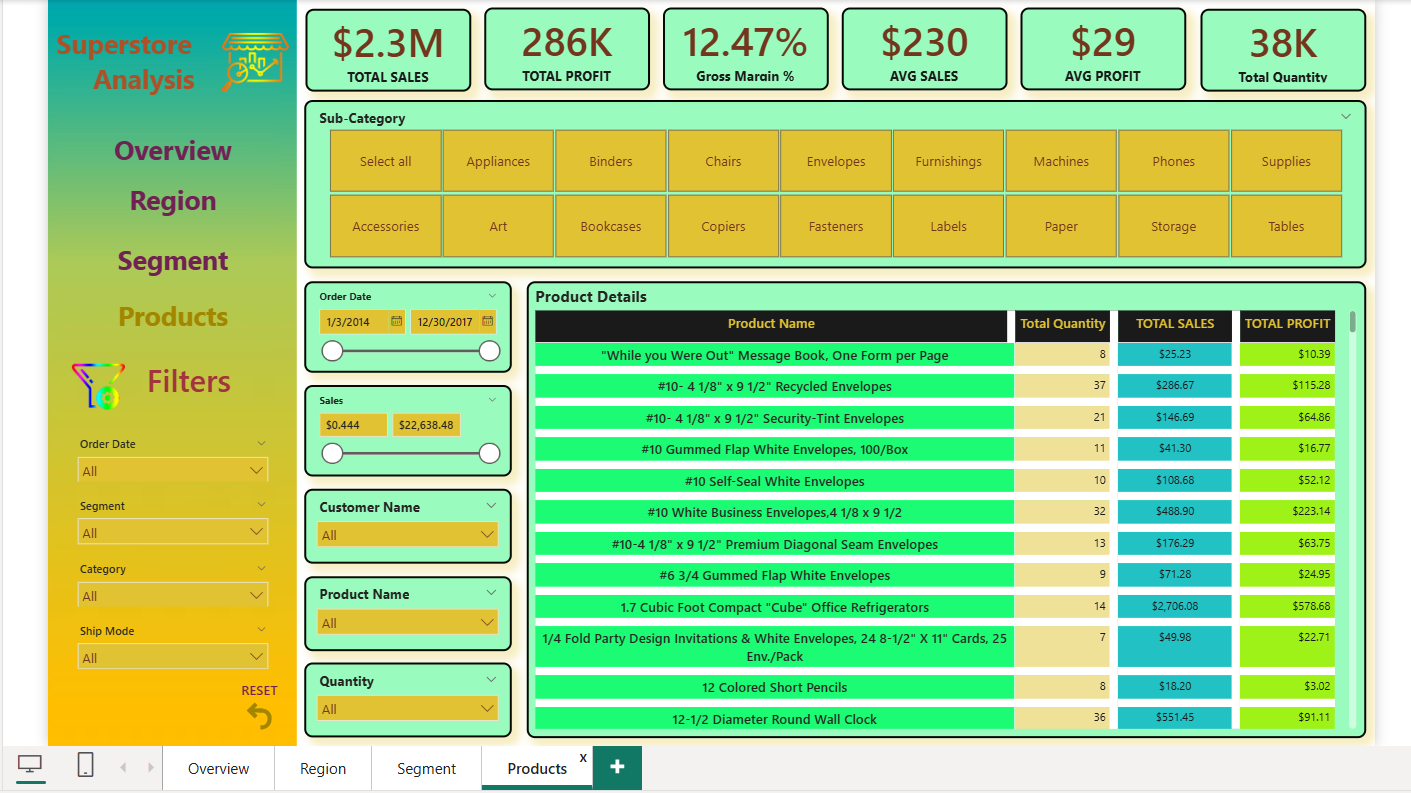

This screenshot's page, from the dashboard's own definition file:
{"tool":"powerbi","page":{"name":"Products","canvas":[1600,900],"ordinal":3},"visuals":[{"type":"card","fields":{"Values":["Superstore.Gross Margin %"]},"box":[742,9.5,200,100],"z":0},{"type":"image","title":"Analysis icon","box":[205,30,90.6,90.6],"z":0,"group":"g2"},{"type":"textbox","title":"Filter","box":[118.8,432.5,130,55],"z":0,"group":"g1"},{"type":"card","fields":{"Values":["Superstore.TOTAL PROFIT"]},"box":[526,9.4,200,100],"z":1000},{"type":"textbox","title":"Title","box":[0,30,200,90],"z":1000,"group":"g2"},{"type":"image","title":"Filter icon","box":[25,438.3,70.3,55],"z":1000,"group":"g1"},{"type":"card","fields":{"Values":["Superstore.TOTAL SALES"]},"box":[310,9.9,200,100],"z":2000},{"type":"card","fields":{"Values":["Superstore.AVG SALES"]},"box":[958,9.6,200,100],"z":3000},{"type":"card","fields":{"Values":["Superstore.AVG PROFIT"]},"box":[1174,9.8,200,100],"z":4000},{"type":"card","fields":{"Values":["Superstore.Total Quantity"]},"box":[1390,10,200,100],"z":5000},{"type":"actionButton","title":"RESET","box":[220,820,70,60],"z":6000},{"type":"slicer","title":"Ship Mode Slicer","fields":{"Values":["Superstore.Ship Mode"]},"box":[25,746.9,250,60.9],"z":7000},{"type":"slicer","title":"Category Slicer","fields":{"Values":["Superstore.Category"]},"box":[25,672.3,250,59.4],"z":8000},{"type":"slicer","title":"Segment slicer","fields":{"Values":["Superstore.Segment"]},"box":[25,596.2,250,60.9],"z":9000},{"type":"slicer","title":"Order date","fields":{"Values":["Superstore.Order Date"]},"box":[25,521.6,250,59.4],"z":10000},{"type":"group","id":"g1","title":"Filter name and icon","box":[25,432.5,223.8,60.8],"z":11000},{"type":"actionButton","title":"Products","box":[25,351.9,250,50],"z":12000},{"type":"actionButton","title":"Segment","box":[25,279,250,67.2],"z":13000},{"type":"actionButton","title":"Region","box":[25,206,250,67.2],"z":14000},{"type":"actionButton","title":"Overview","box":[25,150.3,250,50],"z":15000},{"type":"group","id":"g2","title":"Title name and icon","box":[0,30,295.6,90.6],"z":16000},{"type":"slicer","title":"Order date","fields":{"Values":["Superstore.Order Date"]},"box":[309.4,338.8,250,110],"z":17000},{"type":"slicer","title":"Order date","fields":{"Values":["Superstore.Product Name"]},"box":[309.4,694.7,250,90],"z":18000},{"type":"slicer","title":"Order date","fields":{"Values":["Superstore.Sales"]},"box":[309.4,464.1,250,110],"z":19000},{"type":"slicer","title":"Order date","fields":{"Values":["Superstore.Customer Name"]},"box":[309.4,589.4,250,90],"z":20000},{"type":"slicer","title":"Order date","fields":{"Values":["Superstore.Quantity"]},"box":[309.4,800,250,90.6],"z":21000},{"type":"slicer","title":"Order date","fields":{"Values":["Superstore.Sub-Category"]},"box":[309.4,120.3,1281.2,203.1],"z":22000},{"type":"pivotTable","title":"Product Details","fields":{"Rows":["Superstore.Product Name"],"Values":["Superstore.Total Quantity","Superstore.TOTAL SALES","Superstore.TOTAL PROFIT"]},"box":[578.1,339.1,1012.5,551.6],"z":23000}]}

Visuals, with their boxes on the page's 1600x900 design canvas (x1, y1, x2, y2). These are canvas units, not pixel positions in the 1411x793 screenshot, which may show the page scaled, cropped or inside an application window:
card - Superstore.Gross Margin %: {"left": 742, "top": 10, "right": 942, "bottom": 110}
"Analysis icon" image: {"left": 205, "top": 30, "right": 296, "bottom": 121}
"Filter" textbox: {"left": 119, "top": 432, "right": 249, "bottom": 488}
card - Superstore.TOTAL PROFIT: {"left": 526, "top": 9, "right": 726, "bottom": 109}
"Title" textbox: {"left": 0, "top": 30, "right": 200, "bottom": 120}
"Filter icon" image: {"left": 25, "top": 438, "right": 95, "bottom": 493}
card - Superstore.TOTAL SALES: {"left": 310, "top": 10, "right": 510, "bottom": 110}
card - Superstore.AVG SALES: {"left": 958, "top": 10, "right": 1158, "bottom": 110}
card - Superstore.AVG PROFIT: {"left": 1174, "top": 10, "right": 1374, "bottom": 110}
card - Superstore.Total Quantity: {"left": 1390, "top": 10, "right": 1590, "bottom": 110}
"RESET" actionButton: {"left": 220, "top": 820, "right": 290, "bottom": 880}
"Ship Mode Slicer" slicer: {"left": 25, "top": 747, "right": 275, "bottom": 808}
"Category Slicer" slicer: {"left": 25, "top": 672, "right": 275, "bottom": 732}
"Segment slicer" slicer: {"left": 25, "top": 596, "right": 275, "bottom": 657}
"Order date" slicer: {"left": 25, "top": 522, "right": 275, "bottom": 581}
"Filter name and icon" group: {"left": 25, "top": 432, "right": 249, "bottom": 493}
"Products" actionButton: {"left": 25, "top": 352, "right": 275, "bottom": 402}
"Segment" actionButton: {"left": 25, "top": 279, "right": 275, "bottom": 346}
"Region" actionButton: {"left": 25, "top": 206, "right": 275, "bottom": 273}
"Overview" actionButton: {"left": 25, "top": 150, "right": 275, "bottom": 200}
"Title name and icon" group: {"left": 0, "top": 30, "right": 296, "bottom": 121}
"Order date" slicer: {"left": 309, "top": 339, "right": 559, "bottom": 449}
"Order date" slicer: {"left": 309, "top": 695, "right": 559, "bottom": 785}
"Order date" slicer: {"left": 309, "top": 464, "right": 559, "bottom": 574}
"Order date" slicer: {"left": 309, "top": 589, "right": 559, "bottom": 679}
"Order date" slicer: {"left": 309, "top": 800, "right": 559, "bottom": 891}
"Order date" slicer: {"left": 309, "top": 120, "right": 1591, "bottom": 323}
"Product Details" pivotTable: {"left": 578, "top": 339, "right": 1591, "bottom": 891}
